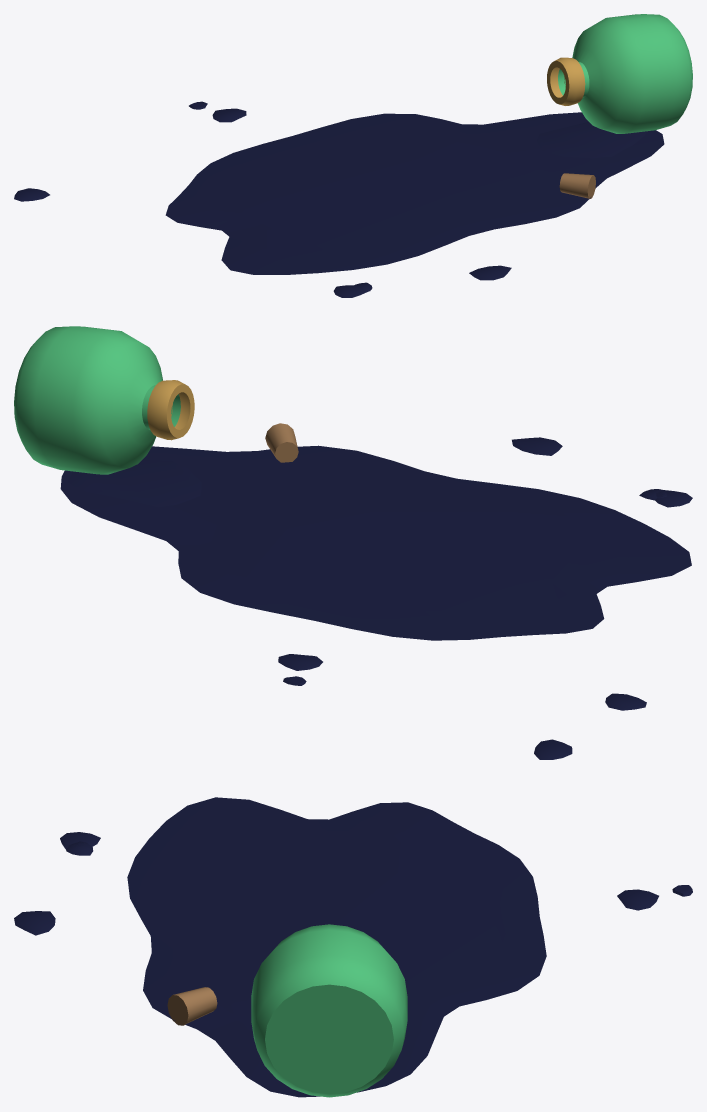
File: inkwell.glb
3 views of the same model, one above another, from view 1: azimuth 30°, elevation 25°; view 2: azimuth 150°, elevation 25°; view 3: azimuth 270°, elevation 25° (orthographic). The views are drawn at different scales.
Parts seen in each view (by area): view 1: inkwell; view 2: inkwell; view 3: inkwell.
Part boxes in pixels (<box>): inkwell: <box>14,14,692,297</box>; inkwell: <box>14,326,692,710</box>; inkwell: <box>14,739,692,1097</box>.
Bounding box in the file's own units: 1.3 × 0.2455 × 0.9995.
